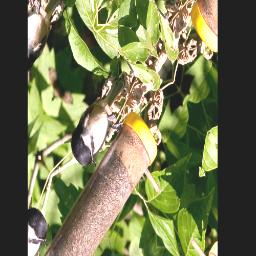Swallow: (63, 84, 125, 183)
